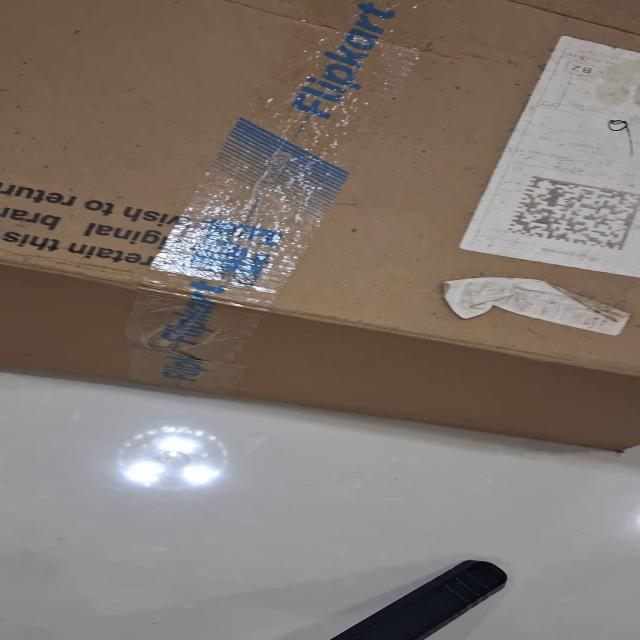paper: (457, 35, 639, 278), (441, 276, 631, 336)
